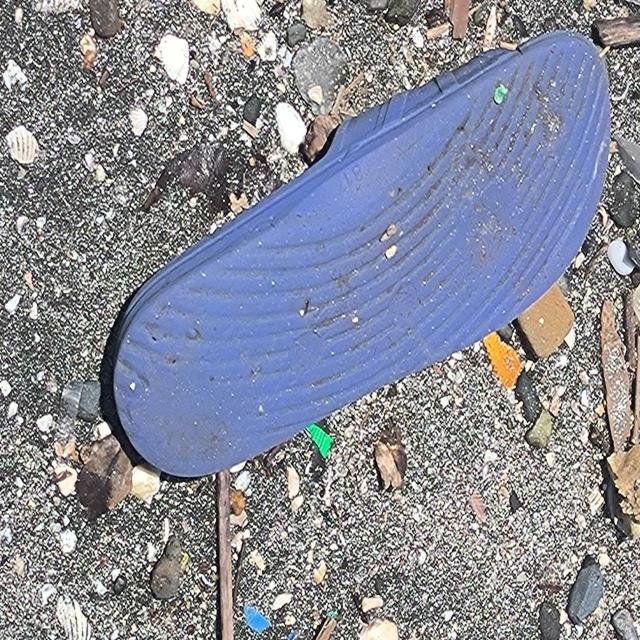rubber_waste: (109, 27, 614, 483)
